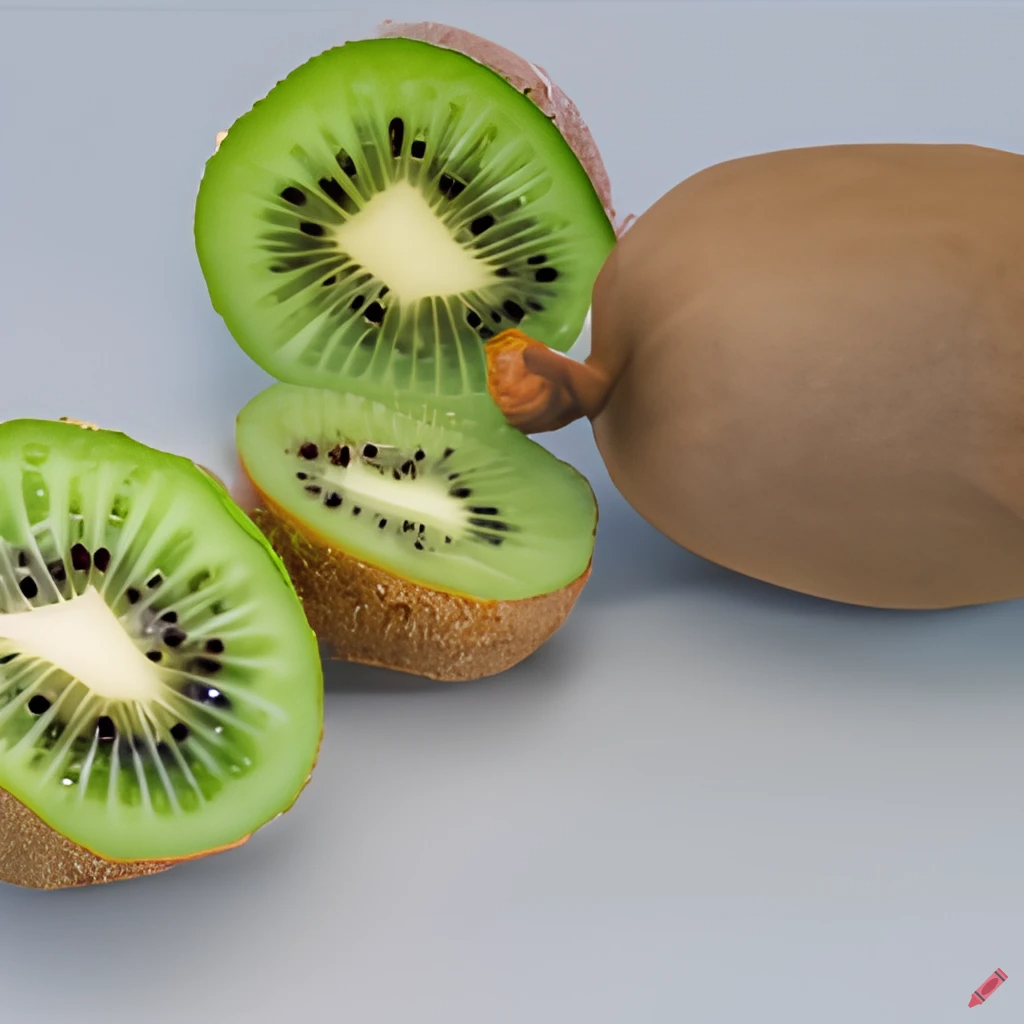Kiwi: (215, 368, 628, 688)
